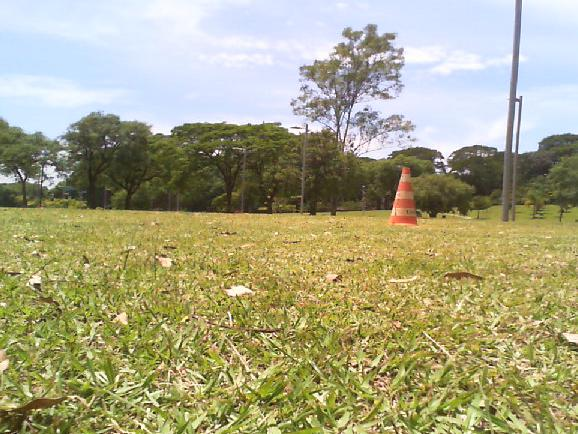0 cone: (385, 167, 420, 228)
